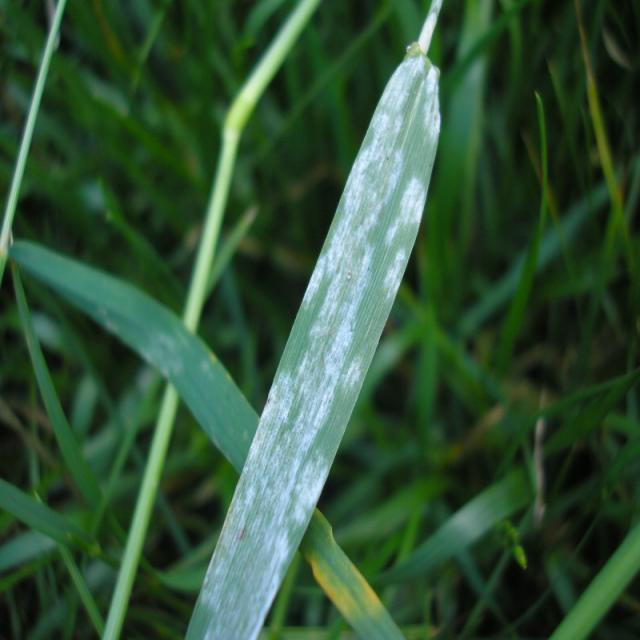wheat-powdery-mildew: (182, 41, 442, 640)
